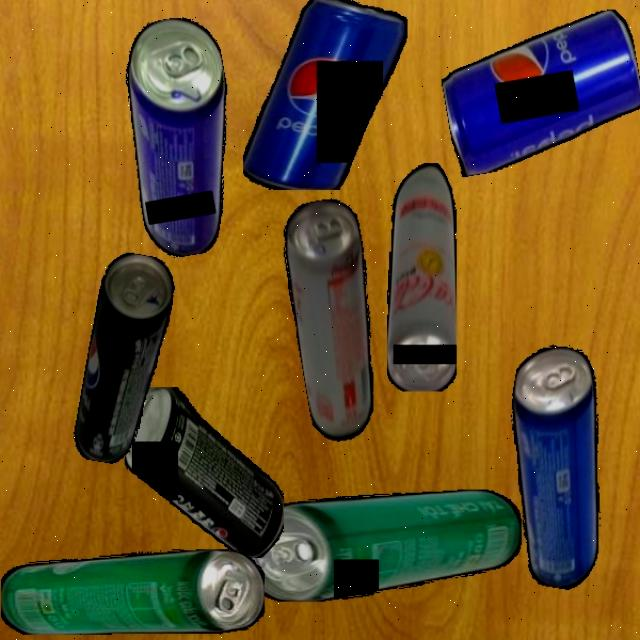debris: (481, 340, 632, 593), (111, 12, 254, 261), (435, 8, 640, 177), (241, 488, 522, 602), (243, 0, 408, 190), (275, 195, 396, 450), (124, 386, 284, 558), (70, 250, 180, 468), (0, 549, 265, 635), (386, 162, 457, 392)
